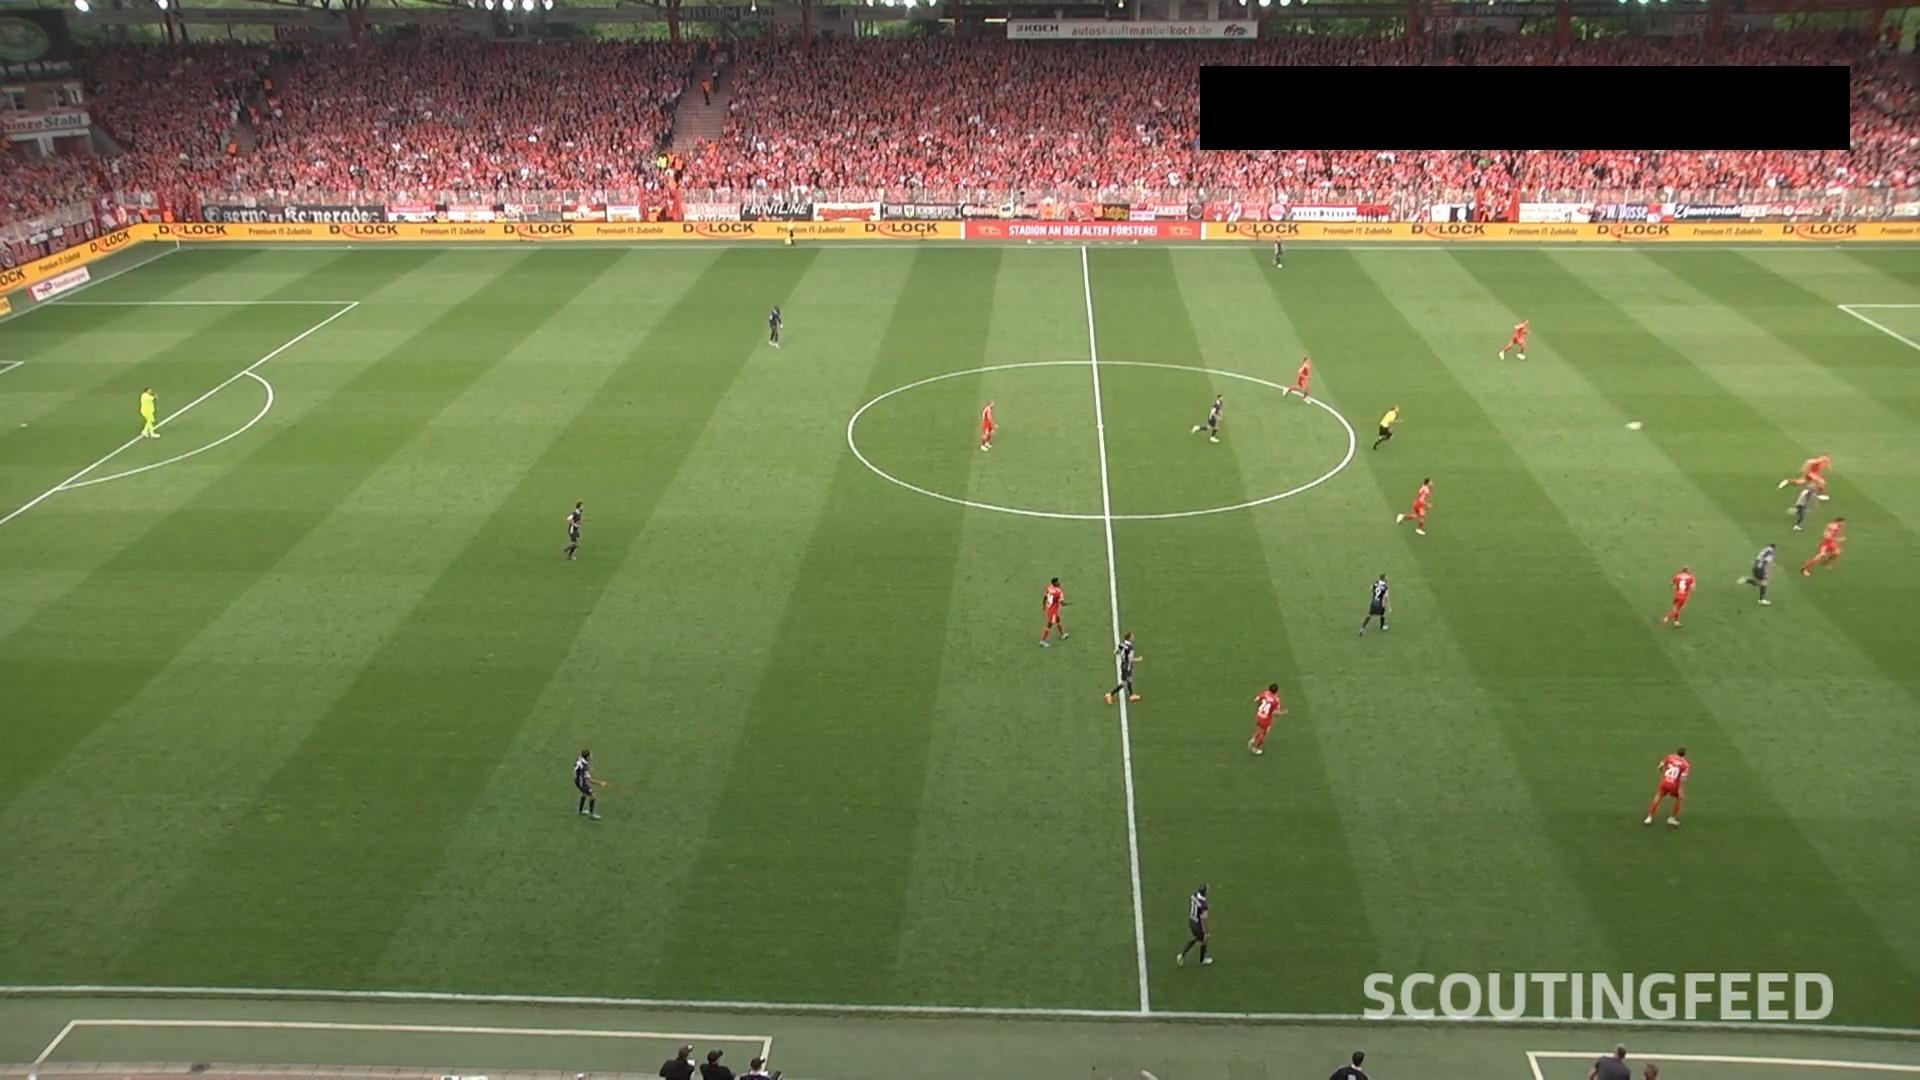ball: (1622, 419, 1644, 434)
